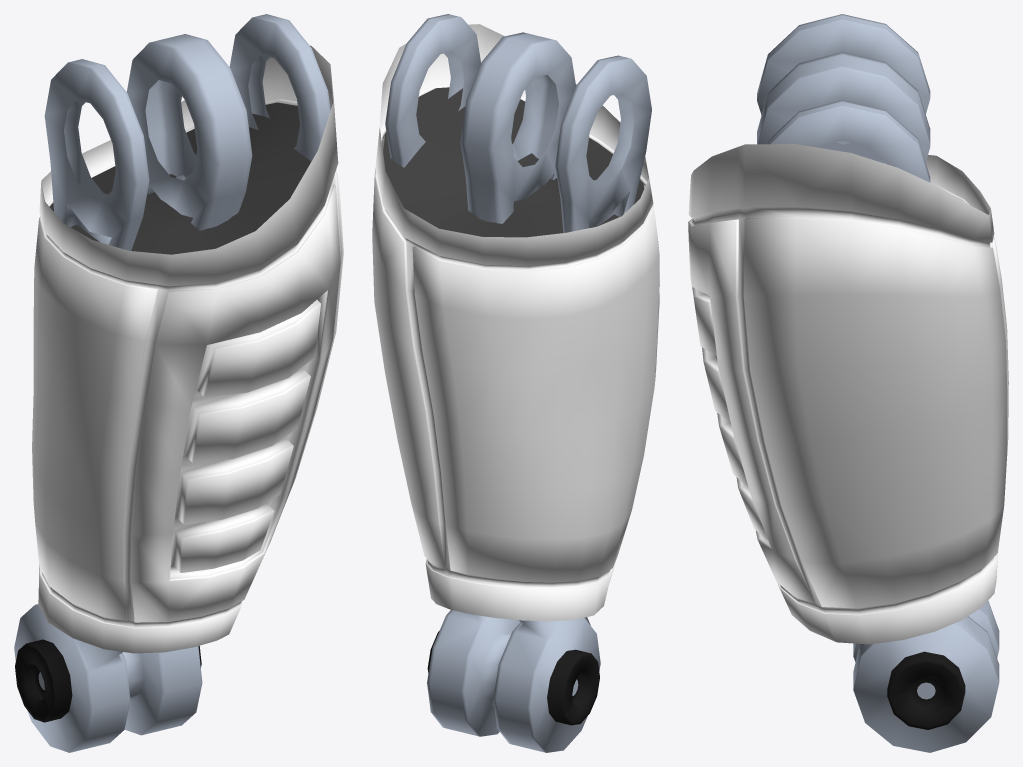
The model's file is leftThigh.dae.
3 renders of one model, left to right at view 1: azimuth 30°, elevation 25°; view 2: azimuth 150°, elevation 25°; view 3: azimuth 270°, elevation 25°, orthographic. The views are drawn at different scales.
Visible parts, largest first — view 1: Mesh_007, Circle_149, Circle_153; view 2: Mesh_007, Circle_149, Circle_153; view 3: Mesh_007, Circle_149, Circle_153.
Boxes of the visible parts, x1,y1,x2,y2 form: Mesh_007: (32, 45, 343, 653); Circle_149: (44, 14, 330, 250); Circle_153: (14, 604, 202, 752); Mesh_007: (372, 24, 659, 621); Circle_149: (385, 14, 651, 232); Circle_153: (427, 610, 600, 752); Mesh_007: (688, 144, 1008, 644); Circle_149: (757, 14, 930, 182); Circle_153: (853, 601, 999, 752).
Size of the model in its own units: 2.67 by 3.03 by 7.14.
